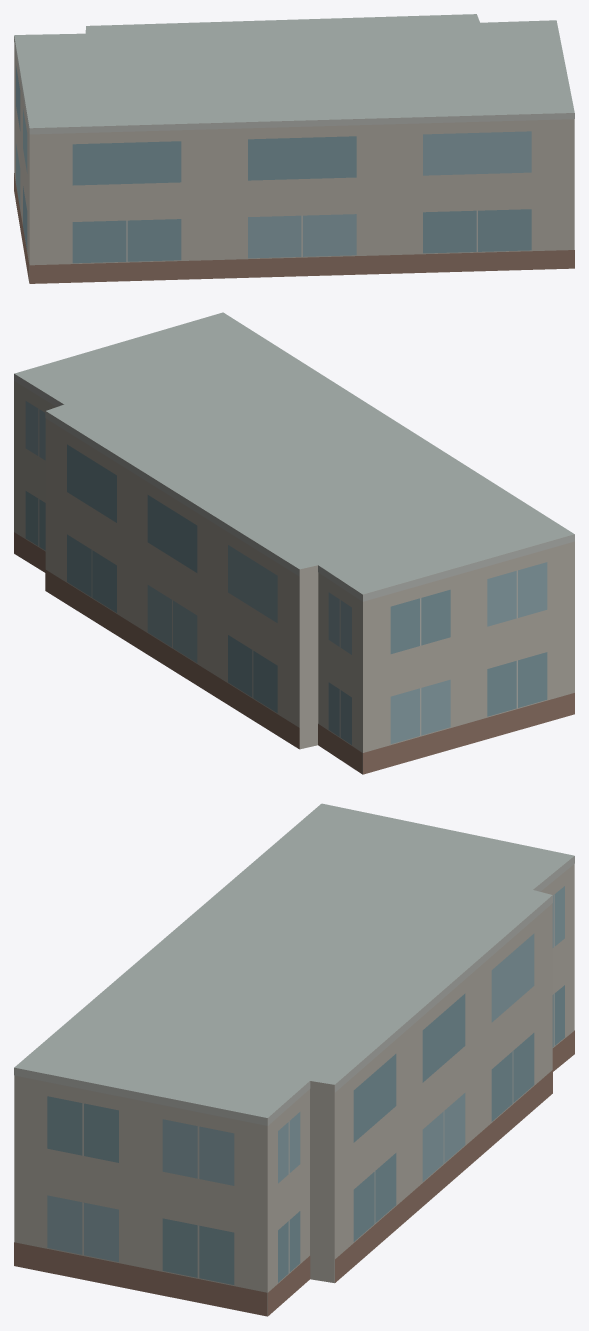
The model's file is survey-upis-32952543.glb.
3 views of the same model, one above another, from view 1: azimuth 30°, elevation 25°; view 2: azimuth 150°, elevation 25°; view 3: azimuth 270°, elevation 25° (orthographic). The views are drawn at different scales.
Parts seen in each view (by area): view 1: survey-upis-32952543.tmp; view 2: survey-upis-32952543.tmp; view 3: survey-upis-32952543.tmp.
Part boxes in pixels (x1=…): survey-upis-32952543.tmp: x1=14, y1=14, x2=574, y2=283; survey-upis-32952543.tmp: x1=14, y1=312, x2=574, y2=774; survey-upis-32952543.tmp: x1=14, y1=803, x2=574, y2=1316.
Size of the model in its own units: 20.76 by 6.1 by 15.63.
